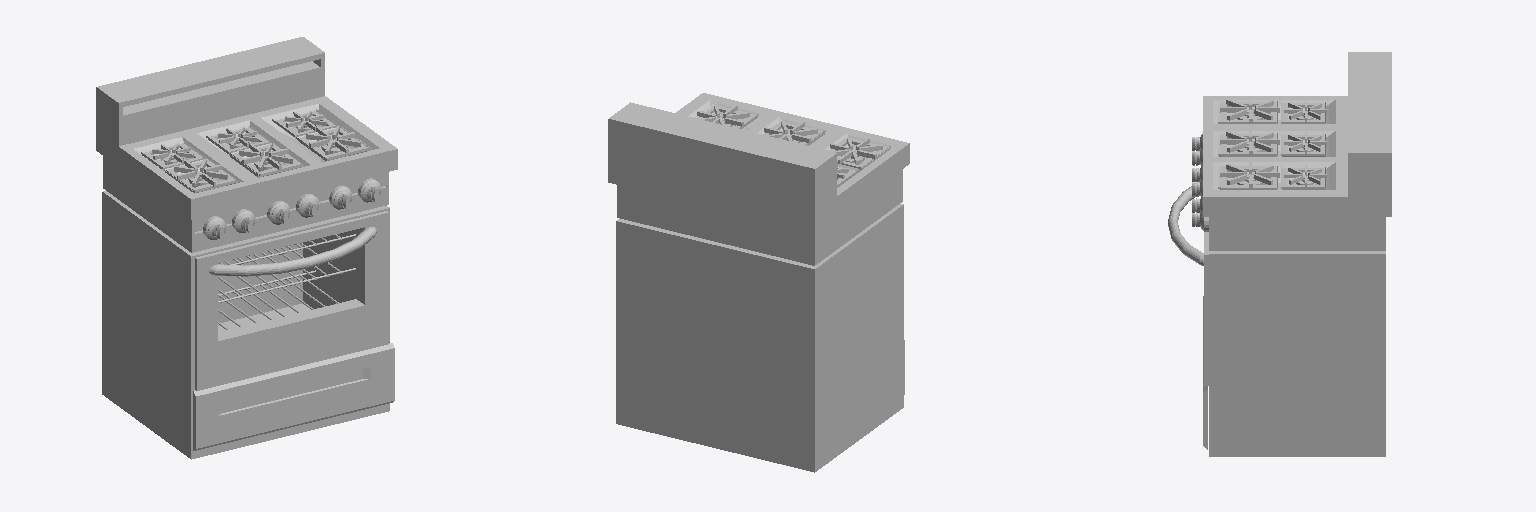
File: Horno.obj
3 renders of one model, left to right at view 1: azimuth 30°, elevation 25°; view 2: azimuth 150°, elevation 25°; view 3: azimuth 270°, elevation 25°, orthographic.
Parts seen in each view (by area): view 1: Stove01; view 2: Stove01; view 3: Stove01.
Part boxes in pixels (x1,y1,x2,y2): Stove01: (96,37,397,459); Stove01: (608,93,909,472); Stove01: (1168,52,1391,456).
Size of the model in its own units: 6.67 by 9.44 by 6.27.